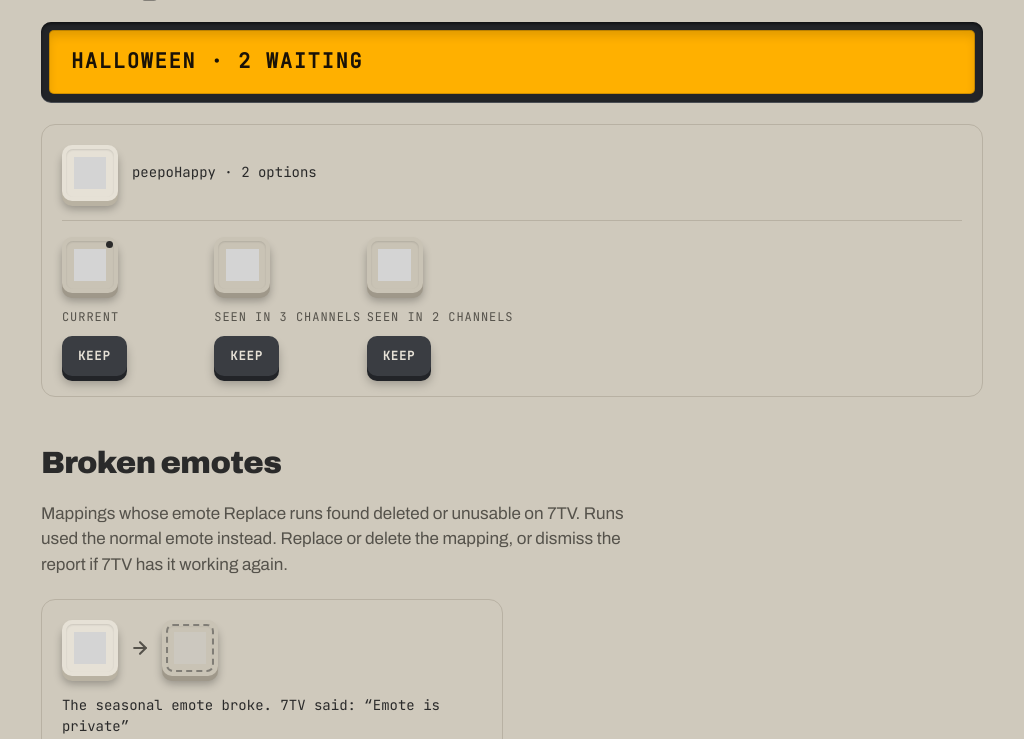
Test case: Review › keeping a new option clears the card, swaps the preset row and drops the old mapping’s broken report, reading nothing again
(page scrolled)
Expected: the text "The seasonal emote broke. 7TV said: “Emote is private”" is shown, [62,695,482,737]
Click the button with aria-label "Keep option 2": [399, 356] box [367,336,431,376]
(page scrolled)
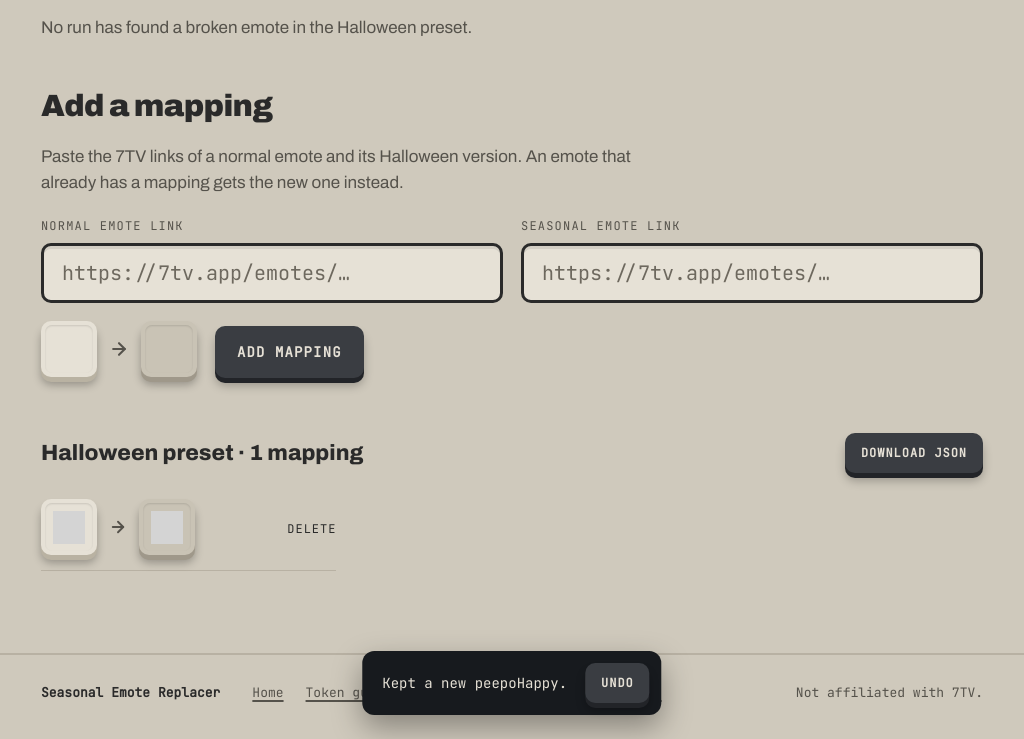
Now the text "Kept a new peepoHappy." is shown, box [382,672,567,694]
Now the text "peepoHappy · 2 options" is gone
Now the text "Emote is private" is gone
